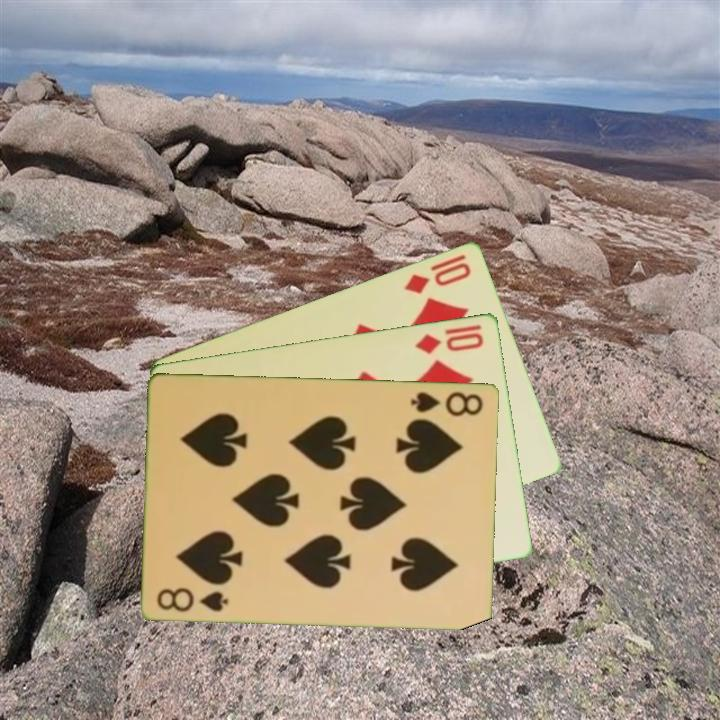10d: (400, 250, 475, 297), (412, 328, 487, 356)
8s: (407, 388, 486, 419), (154, 583, 232, 614)
